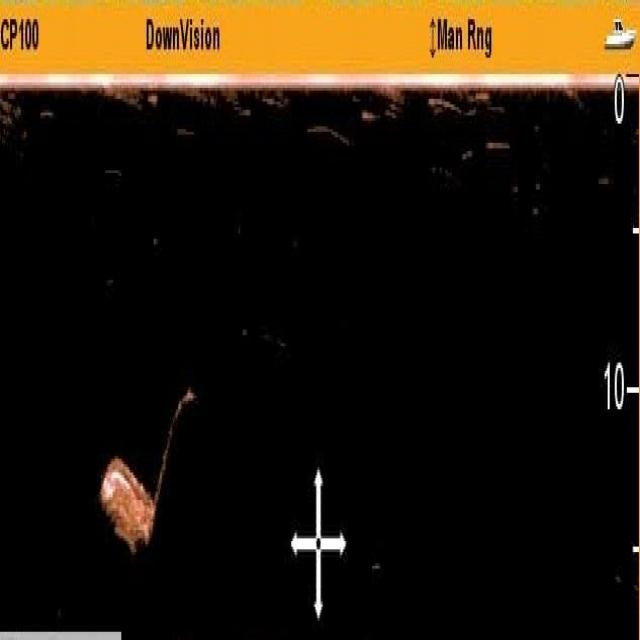fish: (99, 453, 157, 558)
